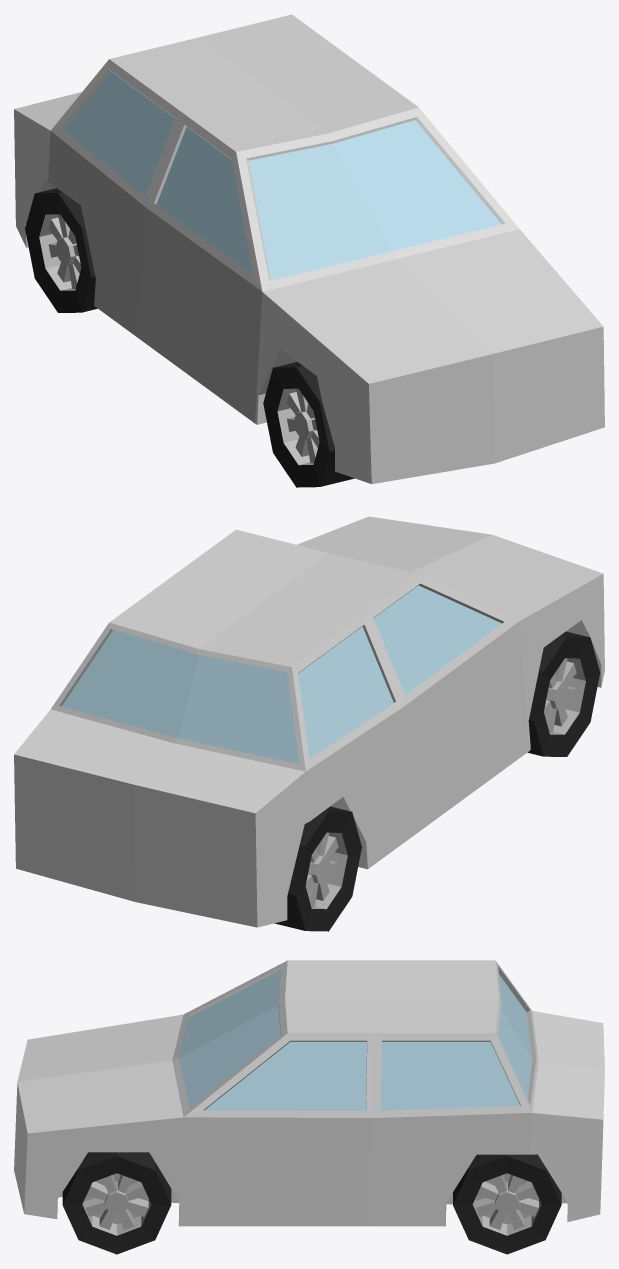
File: Low-poly car.fbx
3 renders of one model, top to bottom at view 1: azimuth 30°, elevation 25°; view 2: azimuth 150°, elevation 25°; view 3: azimuth 270°, elevation 25°, orthographic. The views are drawn at different scales.
Visible parts, largest first — view 1: Car; view 2: Car; view 3: Car.
Part boxes in pixels (box(x1,y1,x2,y2)): Car: box(14, 14, 604, 487); Car: box(14, 516, 604, 931); Car: box(14, 960, 604, 1254).
Bounding box in the file's own units: 194 × 444 × 169.
